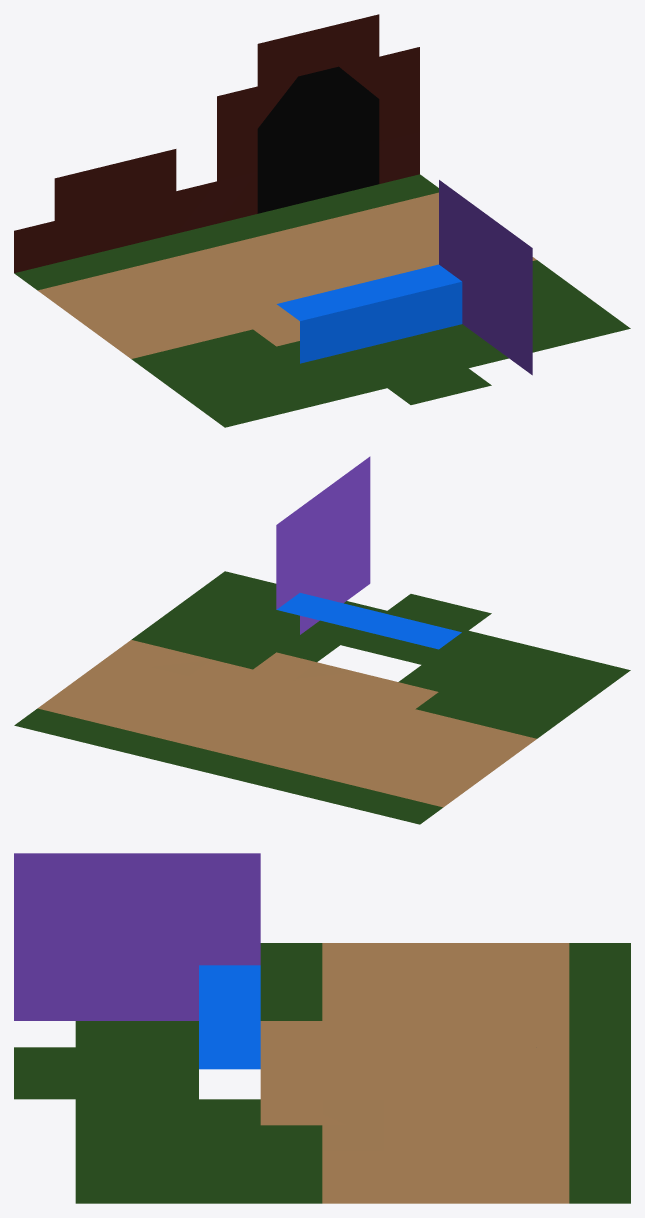
Rendered from stand.gltf.
The picture shows the model from 3 angles, top to bottom: view 1: azimuth 30°, elevation 25°; view 2: azimuth 150°, elevation 25°; view 3: azimuth 270°, elevation 25°; orthographic projection. The views are drawn at different scales.
Visible parts, largest first — view 1: default; view 2: default; view 3: default.
Boxes of the visible parts, x1,y1,x2,y2 form: default: (14,14,630,427); default: (14,456,630,824); default: (14,853,630,1203).
Bounding box in the file's own units: 10 × 4 × 10.
1 material, 1 textured.
